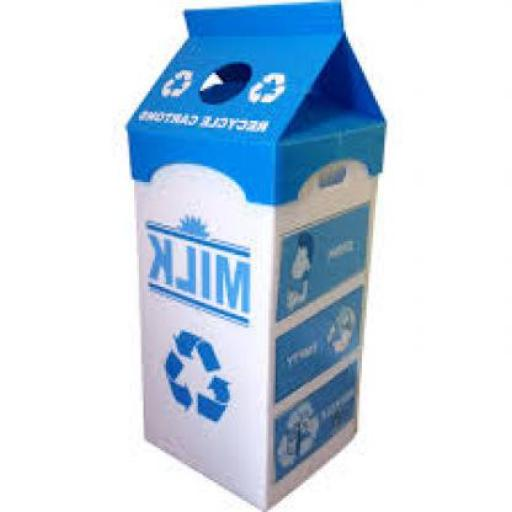cardboard: (129, 0, 387, 508)
